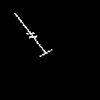treble_crochet: (14, 13, 51, 56)
